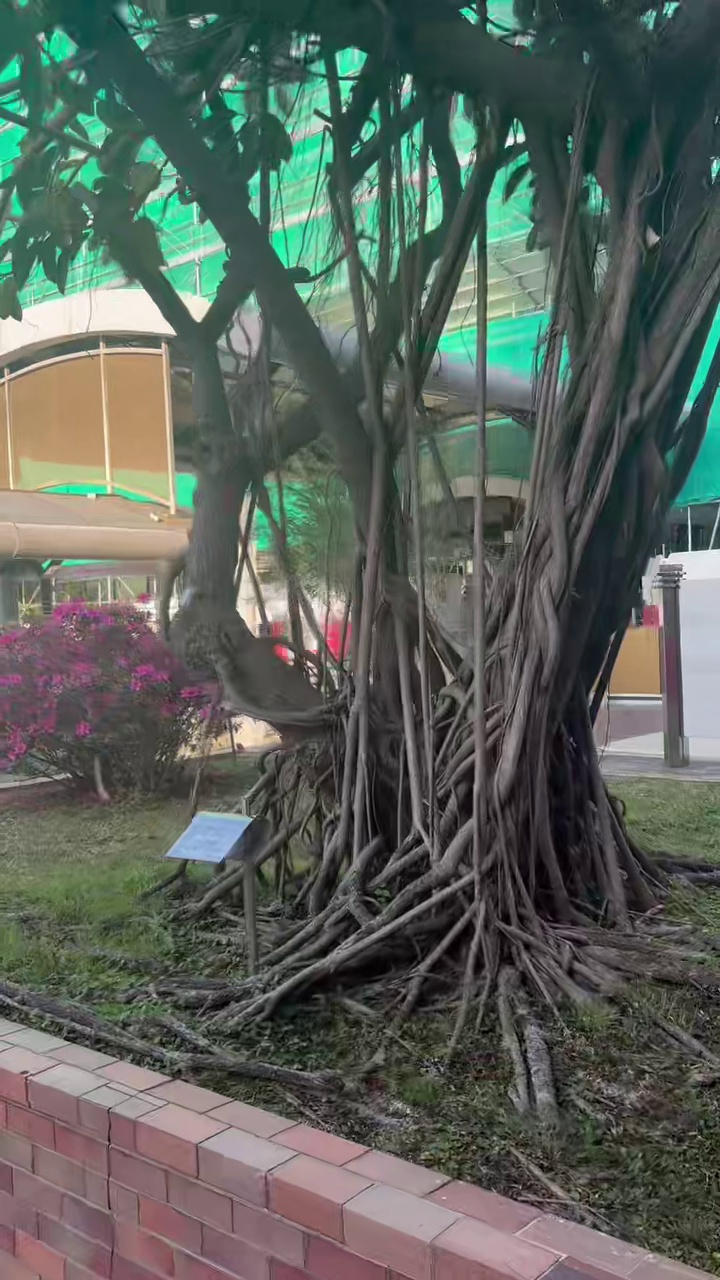Ficus elastica: (0, 0, 719, 1051)
